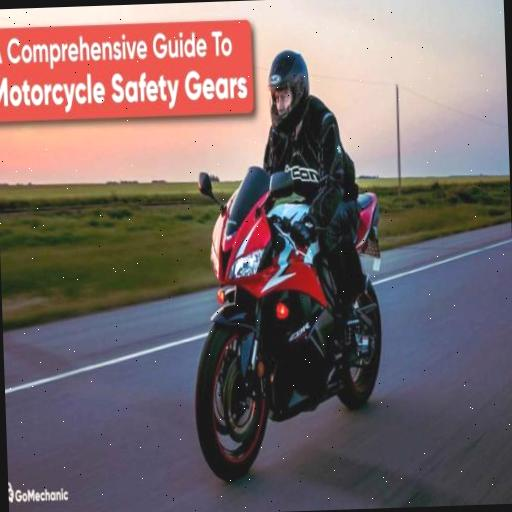helmet: (237, 32, 378, 429)
